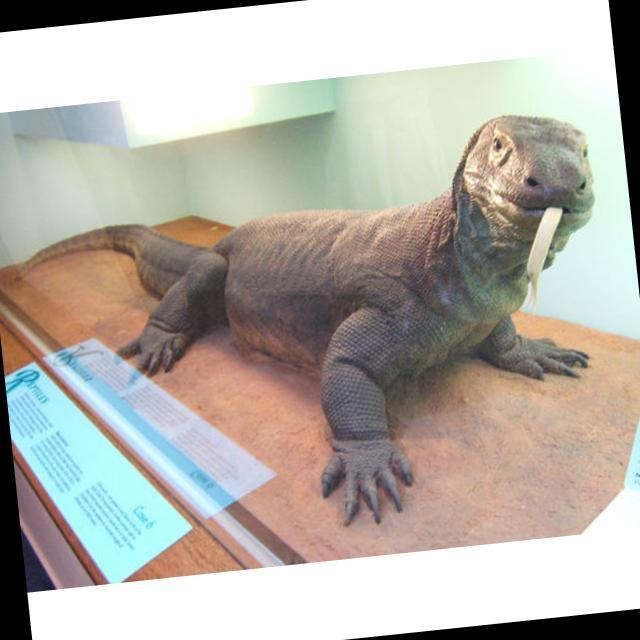KomodoDragon: (0, 104, 626, 560)
